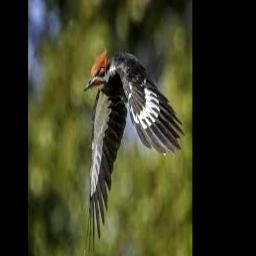Woodpecker: (84, 48, 185, 255)
